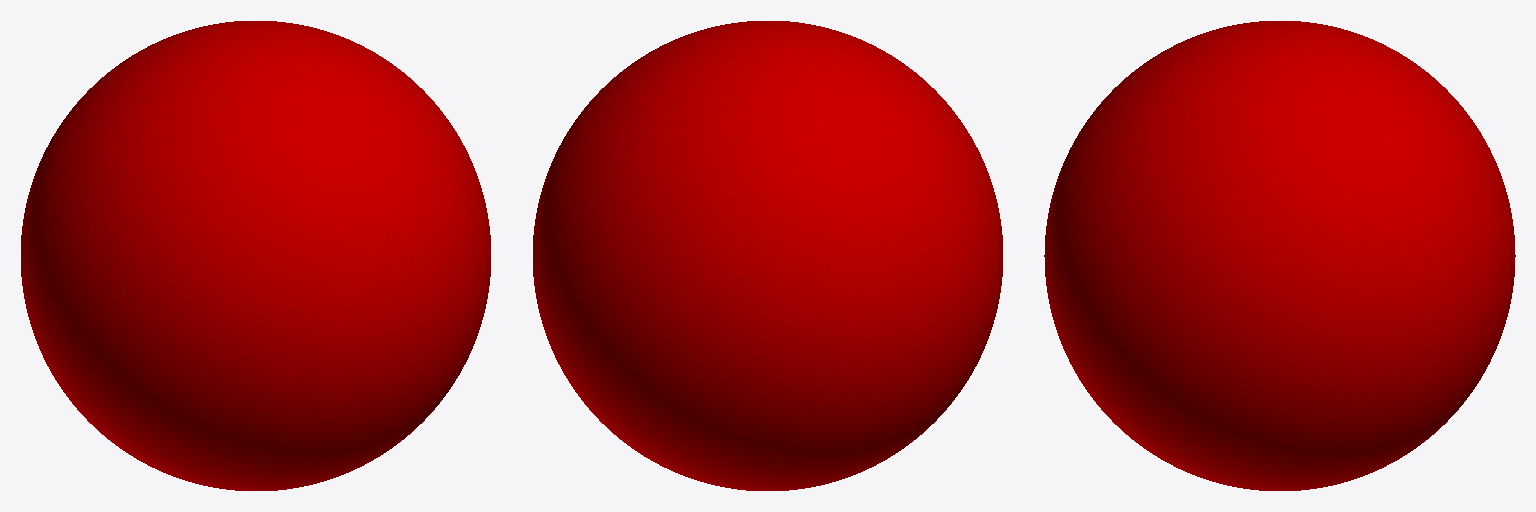
Rendered from icosph.obj.
3 renders of one model, left to right at view 1: azimuth 30°, elevation 25°; view 2: azimuth 150°, elevation 25°; view 3: azimuth 270°, elevation 25°, orthographic.
Parts seen in each view (by area): view 1: Icosphere; view 2: Icosphere; view 3: Icosphere.
Part boxes in pixels (x1,y1,x2,y2): Icosphere: (21, 21, 490, 490); Icosphere: (533, 21, 1002, 490); Icosphere: (1044, 21, 1515, 490).
Size of the model in its own units: 7.9 by 7.9 by 7.9.